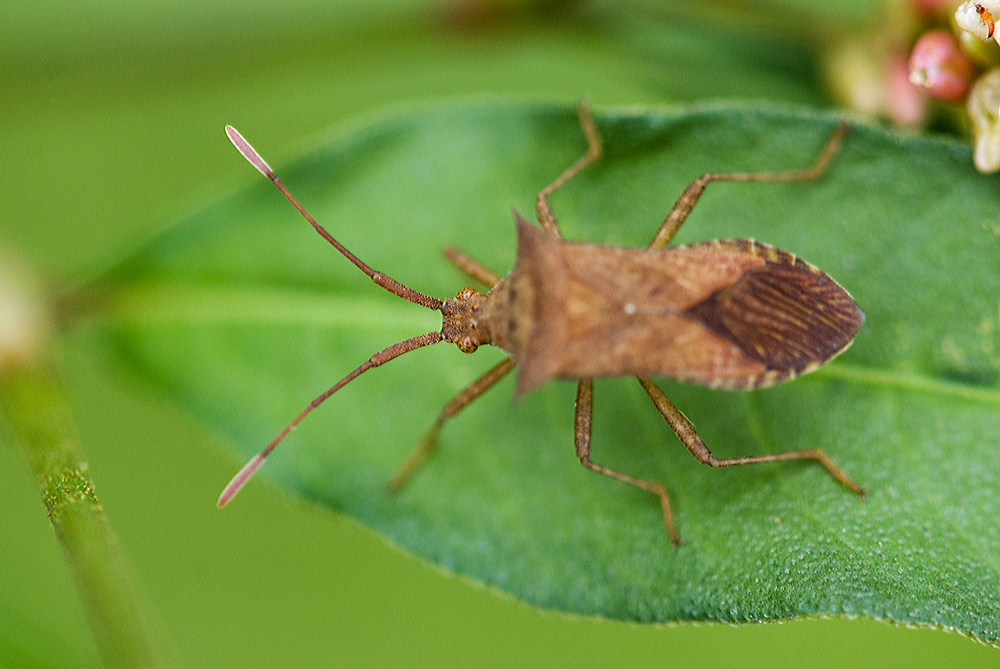chunchong: (306, 189, 876, 511)
